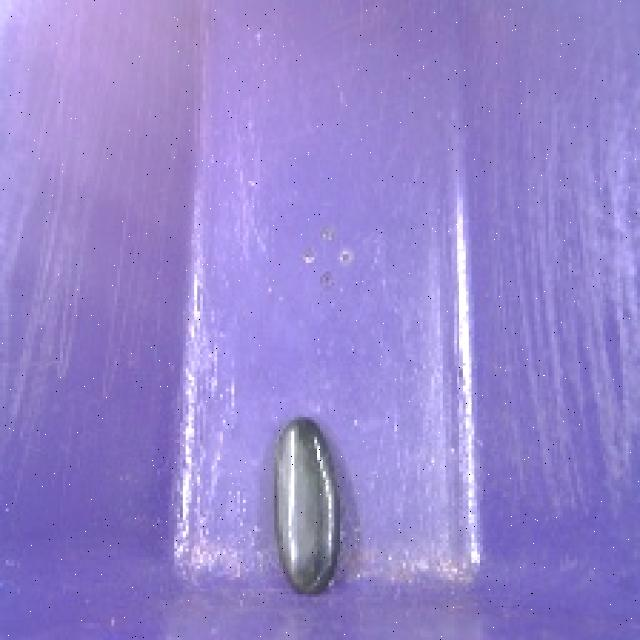cobbles: (264, 402, 358, 605)
